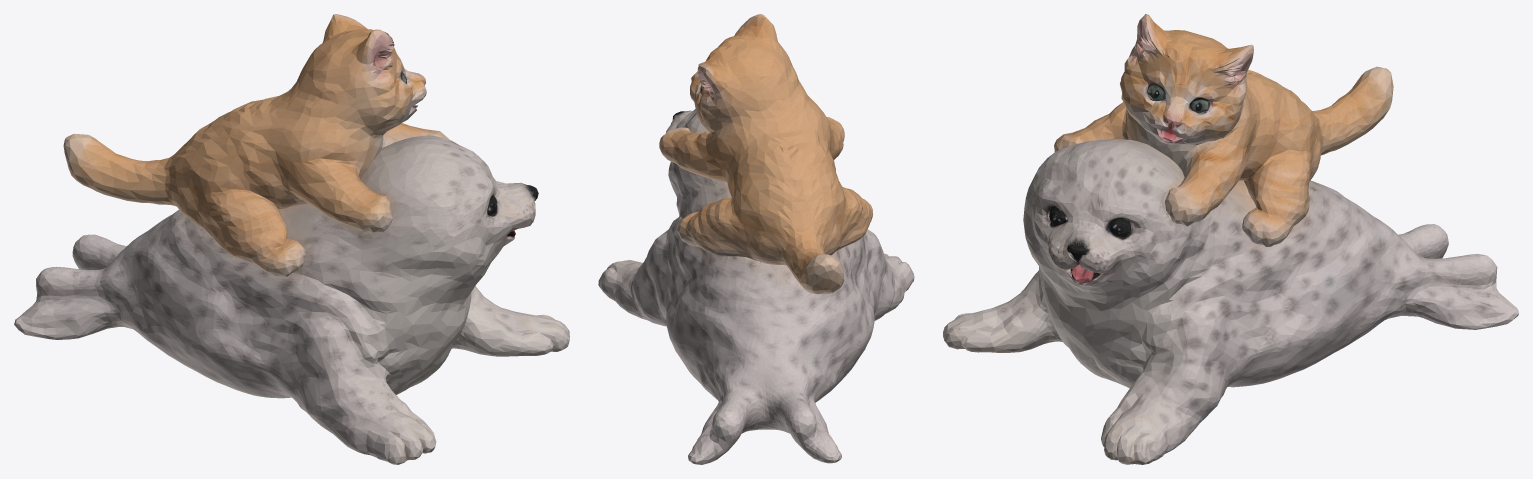
The model's file is cat_and_seal.glb.
The picture shows the model from 3 angles, left to right: view 1: azimuth 30°, elevation 25°; view 2: azimuth 150°, elevation 25°; view 3: azimuth 270°, elevation 25°; orthographic projection. The views are drawn at different scales.
Parts seen in each view (by area): view 1: tripo_node_d70c0fb7-b753-4079-9cd4-f5101193a735; view 2: tripo_node_d70c0fb7-b753-4079-9cd4-f5101193a735; view 3: tripo_node_d70c0fb7-b753-4079-9cd4-f5101193a735.
Boxes of the visible parts, <box> form: tripo_node_d70c0fb7-b753-4079-9cd4-f5101193a735: <box>14,14,569,464</box>; tripo_node_d70c0fb7-b753-4079-9cd4-f5101193a735: <box>598,14,914,464</box>; tripo_node_d70c0fb7-b753-4079-9cd4-f5101193a735: <box>943,14,1518,464</box>.
Bounding box in the file's own units: 0.8228 × 0.6841 × 0.9784.
Materials: 1 (1 with a texture image).
